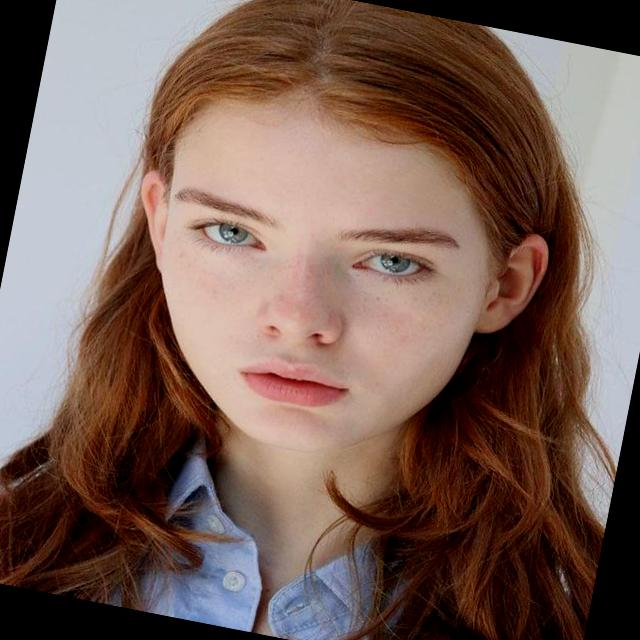freckle: (164, 240, 481, 352)
